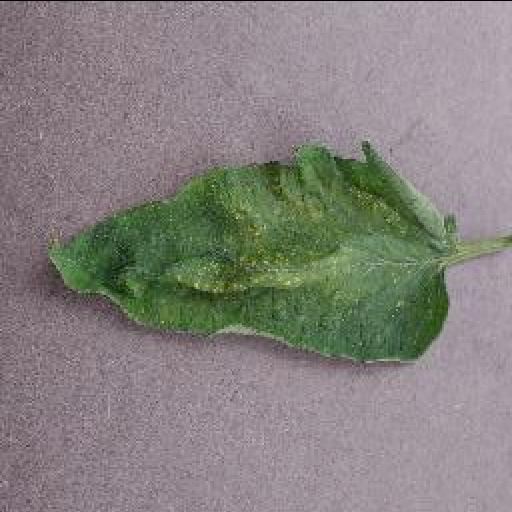disease_tomato: (46, 138, 458, 362)
